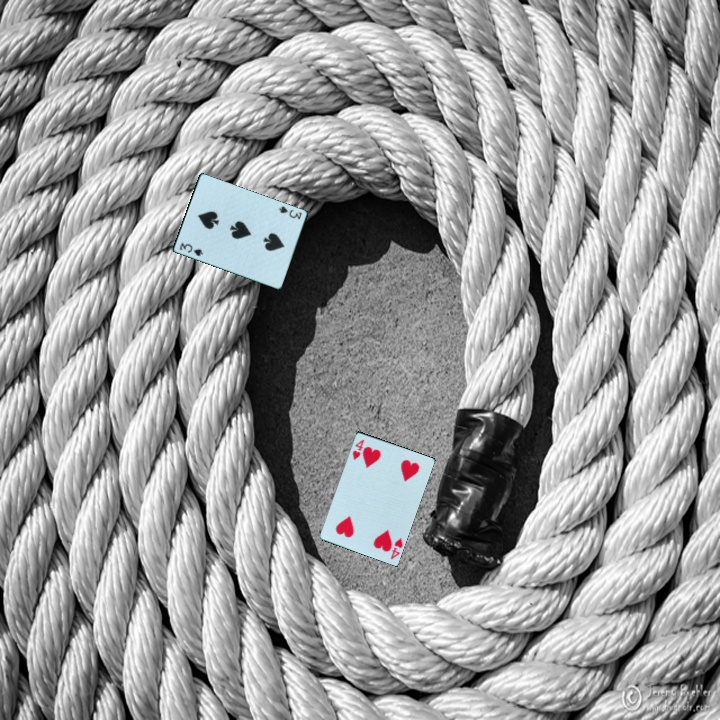3s: (176, 239, 206, 259), (275, 203, 305, 222)
4h: (387, 534, 405, 562), (349, 435, 367, 462)
